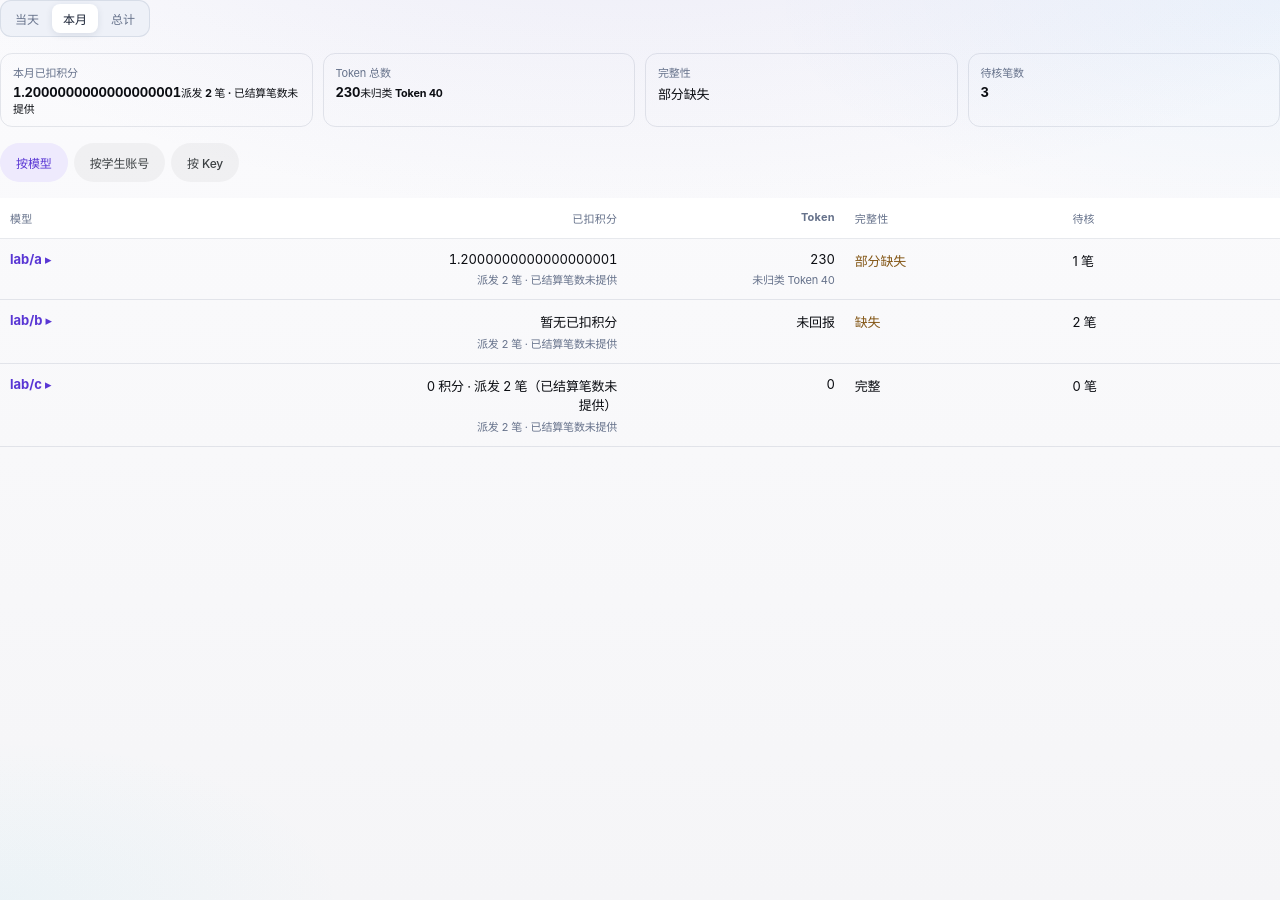
it: 北辰模型用量明细 › 按模型显示完整性和待核，展开后同一账号的项目用量精确合计
Expected: the cell "完整" is shown, [845,364,1062,447]
Expected: the cell "部分缺失" is shown, [845,239,1062,300]
Step 1. Click the button with aria-label "查看 lab/a 的学生用量" → (31, 259), box [10,251,52,267]
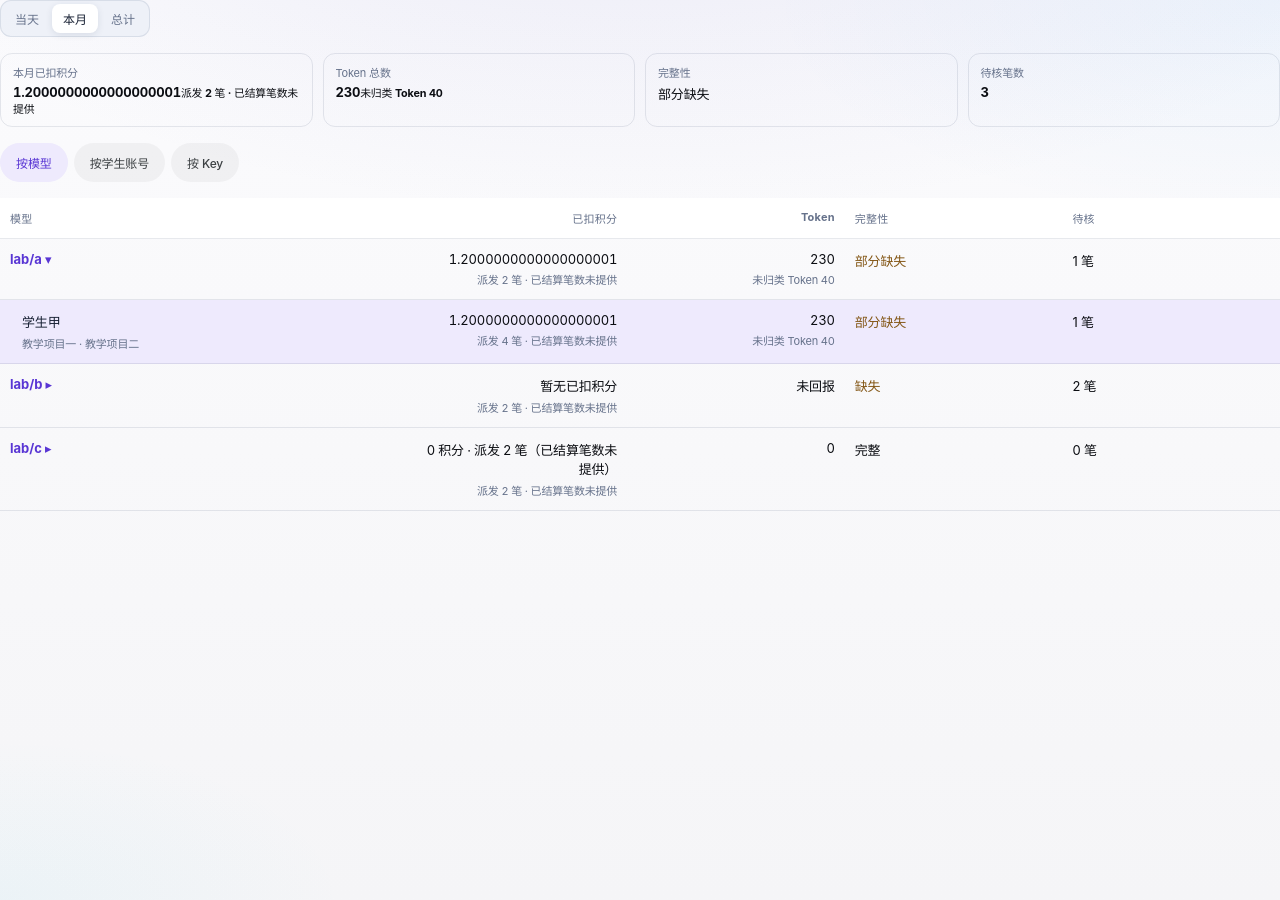
Expected: the button with aria-label "查看 lab/a 的学生用量" is expanded
Expected: the number of rows with class "expanded-student" is 1, [0,300,1279,364]
Expected: the column heading "学生甲 教学项目一 · 教学项目二" is shown, [0,300,410,364]
Step 2. Click the button with aria-label "查看 lab/a 的学生用量" → (31, 259), box [10,251,52,267]
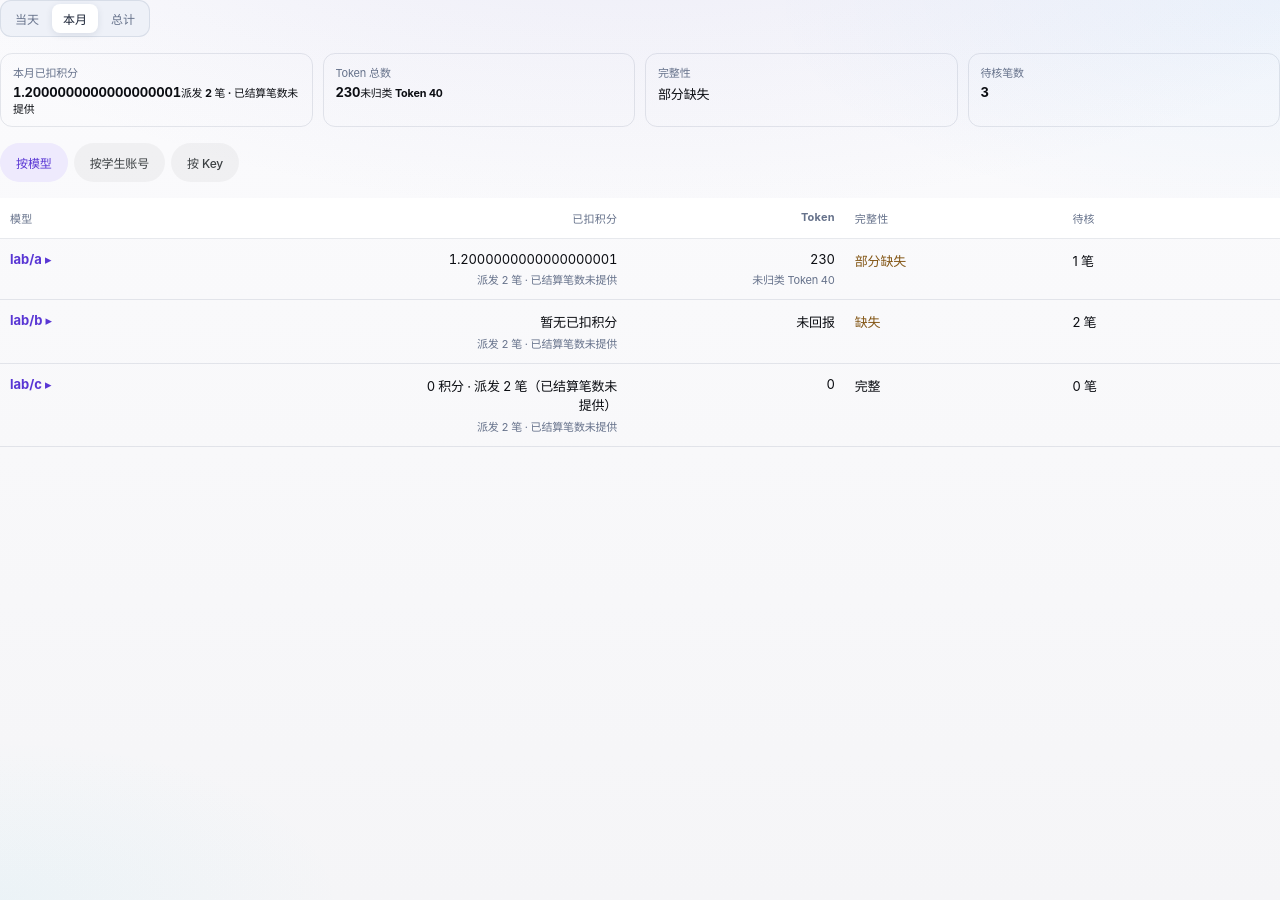
Step 3. Click the button "按学生账号" → (119, 162), box [74,143,165,182]
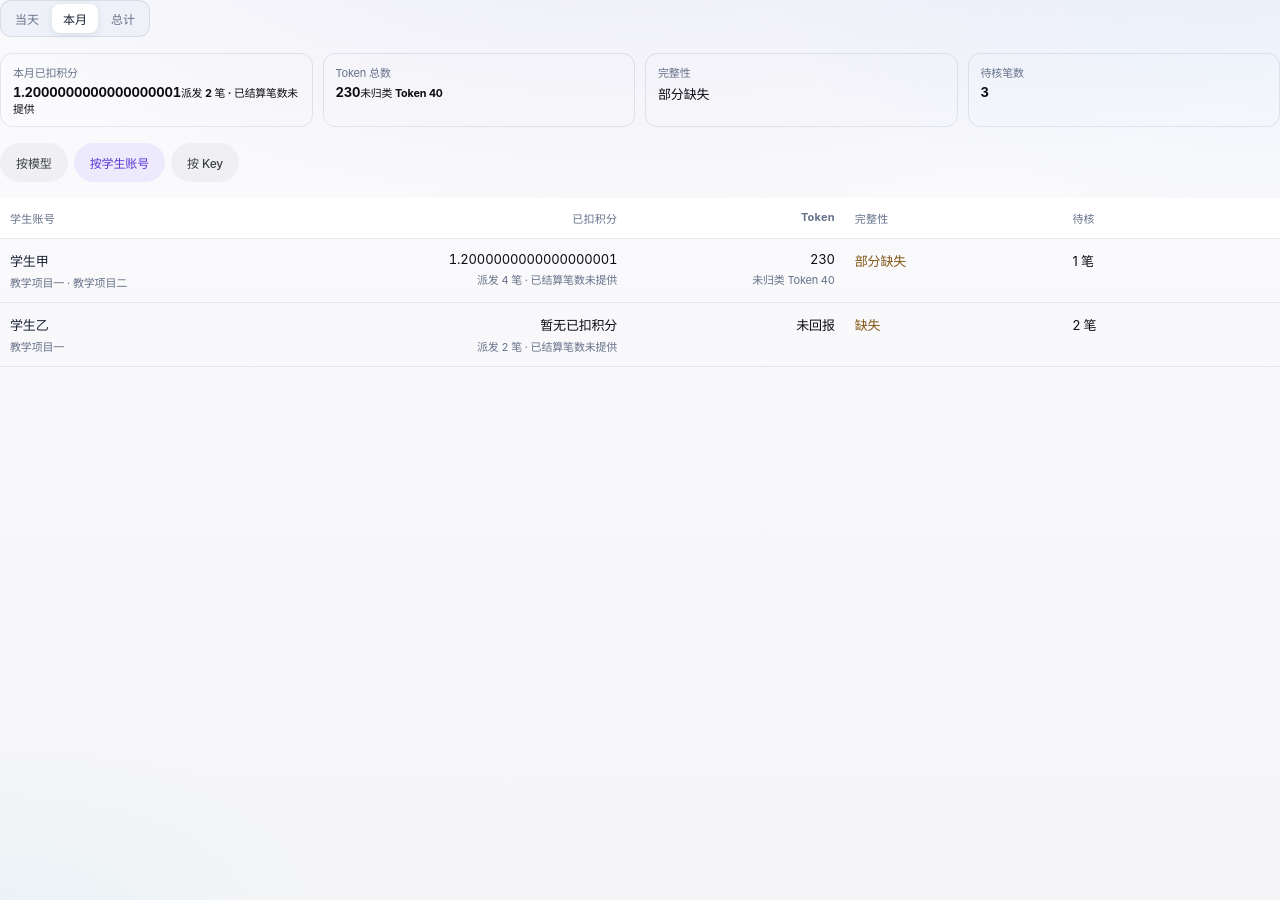
Expected: the table shows "2 笔", [1072,317,1096,333]
Expected: the table shows "学生乙", [10,317,48,333]
